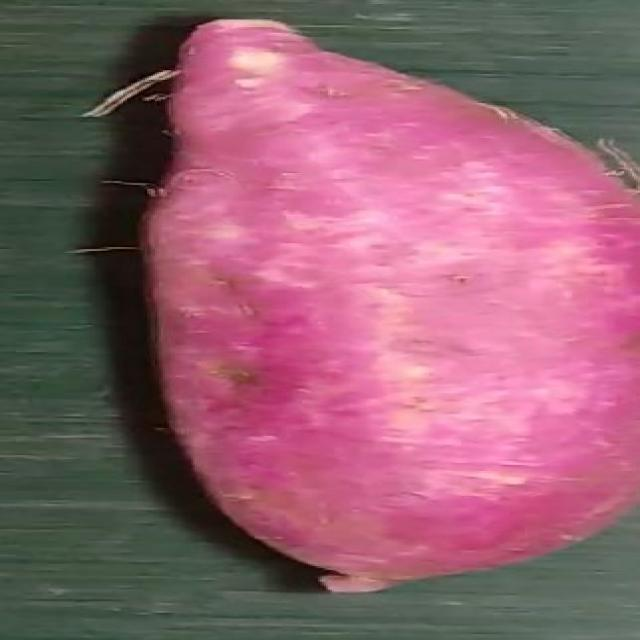Sweet Potato: (141, 19, 640, 592)
